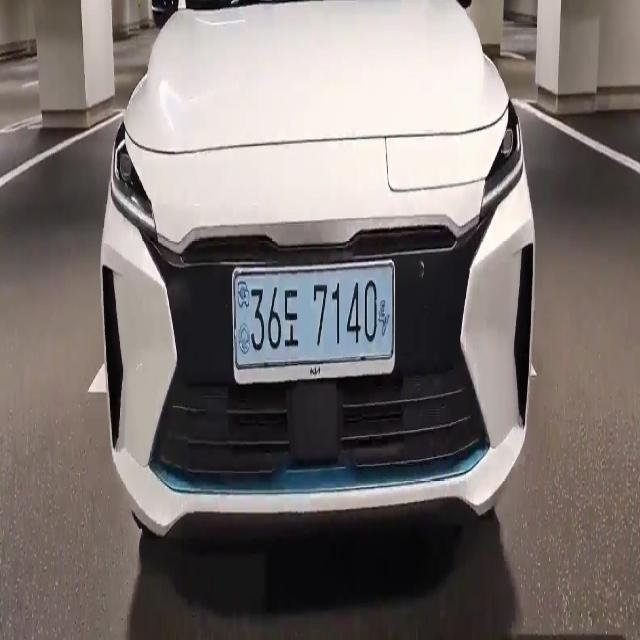car: (231, 258, 400, 366)
carev: (236, 272, 250, 366), (378, 278, 391, 354)
